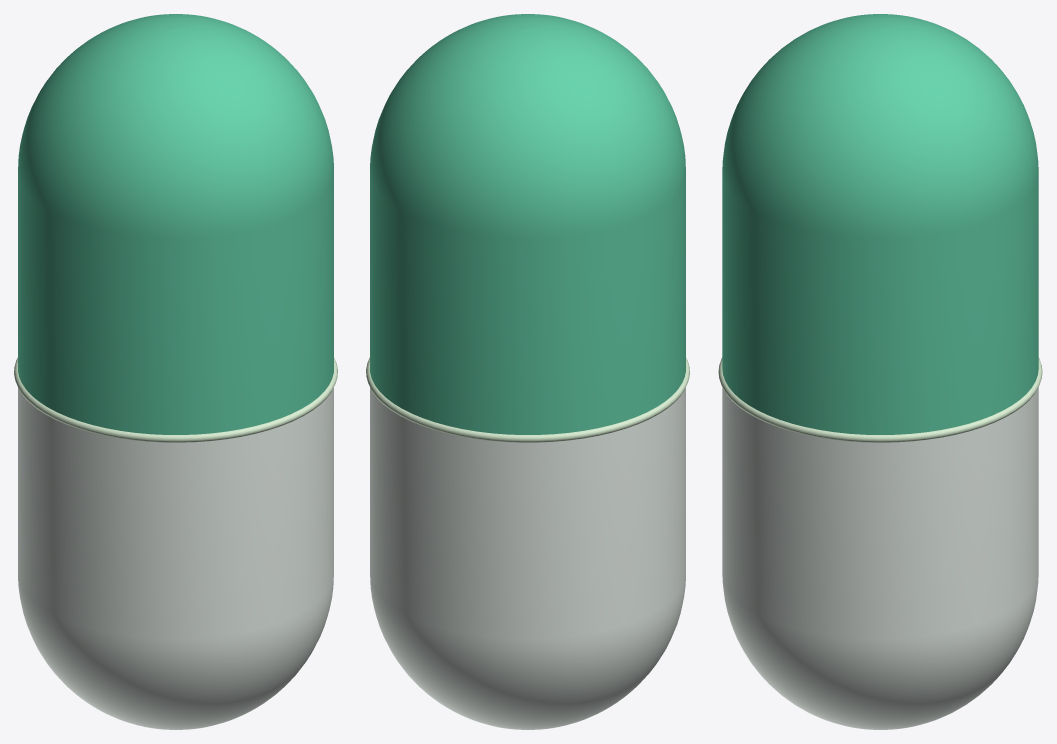
Rendered from pharmabiz-capsule.glb.
The picture shows the model from 3 angles, left to right: view 1: azimuth 30°, elevation 25°; view 2: azimuth 150°, elevation 25°; view 3: azimuth 270°, elevation 25°; orthographic projection.
Parts seen in each view (by area): view 1: Jade cap, Pearl body, Precision join; view 2: Jade cap, Pearl body, Precision join; view 3: Jade cap, Pearl body, Precision join.
Part boxes in pixels (x1,y1,x2,y2): Jade cap: (18, 14, 333, 434); Pearl body: (18, 387, 333, 729); Precision join: (14, 357, 337, 442); Jade cap: (370, 14, 685, 434); Pearl body: (370, 387, 685, 729); Precision join: (366, 357, 689, 442); Jade cap: (722, 14, 1038, 434); Pearl body: (722, 387, 1038, 729); Precision join: (718, 357, 1042, 442).
Size of the model in its own units: 1.35 by 3.16 by 1.35.
